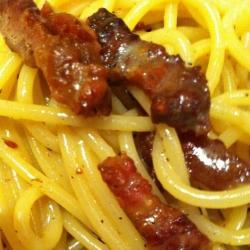bolonese_pasta: (10, 12, 236, 227)
